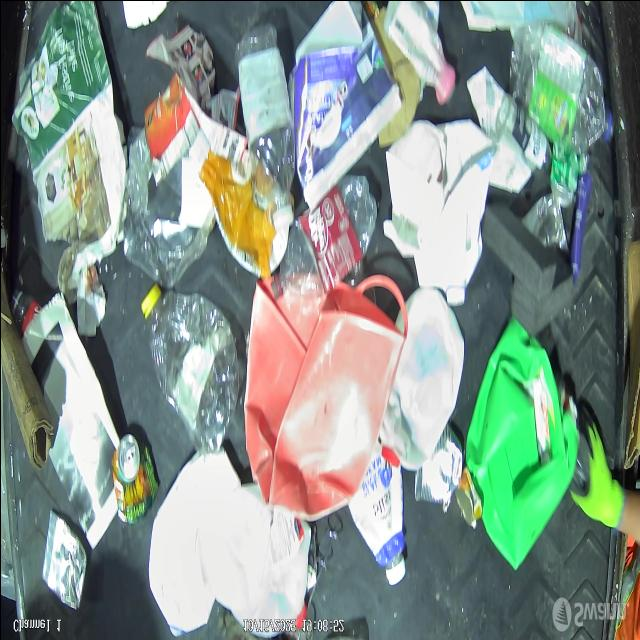can: (142, 70, 200, 186), (412, 421, 464, 515), (110, 430, 160, 526), (42, 508, 88, 612), (520, 192, 570, 252), (548, 141, 578, 209), (454, 465, 484, 531)
milk_jug: (148, 439, 242, 640), (375, 285, 465, 473), (410, 116, 496, 308), (212, 480, 310, 638)
non_white_jug: (243, 249, 408, 523), (464, 314, 578, 570)
plastic_bottle: (138, 281, 240, 459), (508, 18, 616, 160), (270, 168, 378, 306), (232, 18, 296, 232), (493, 92, 552, 177)
